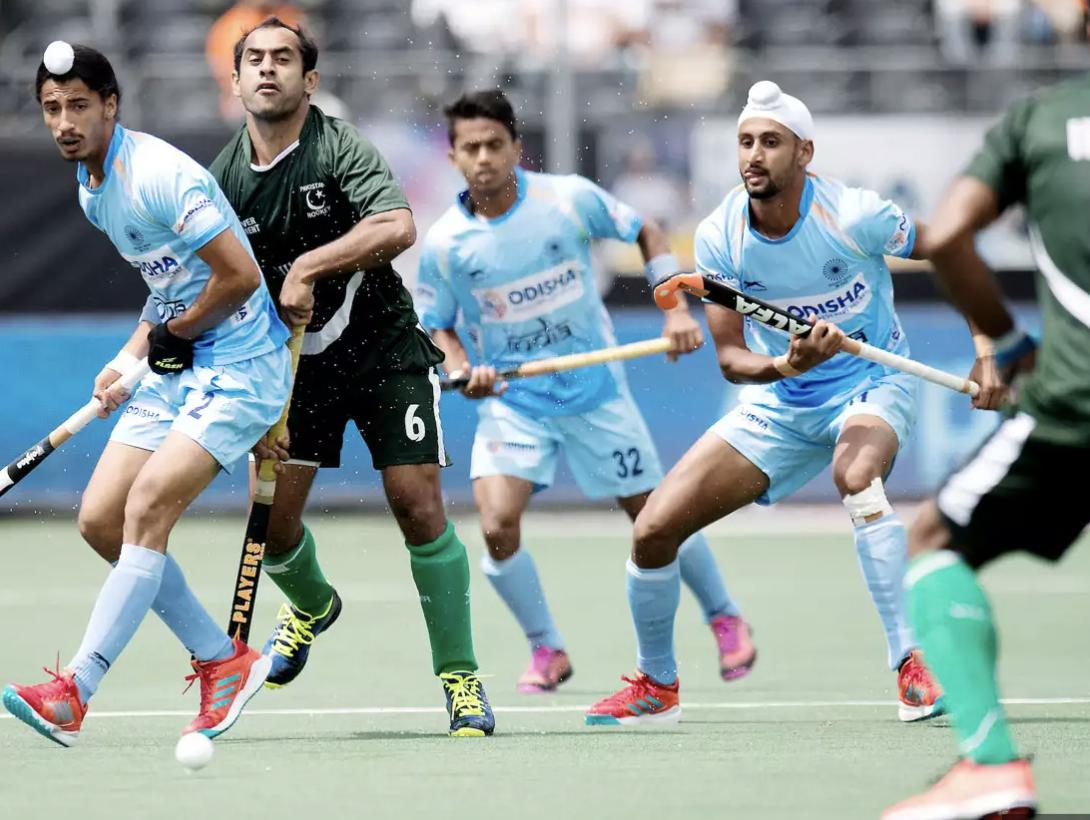ball: (171, 713, 223, 778)
